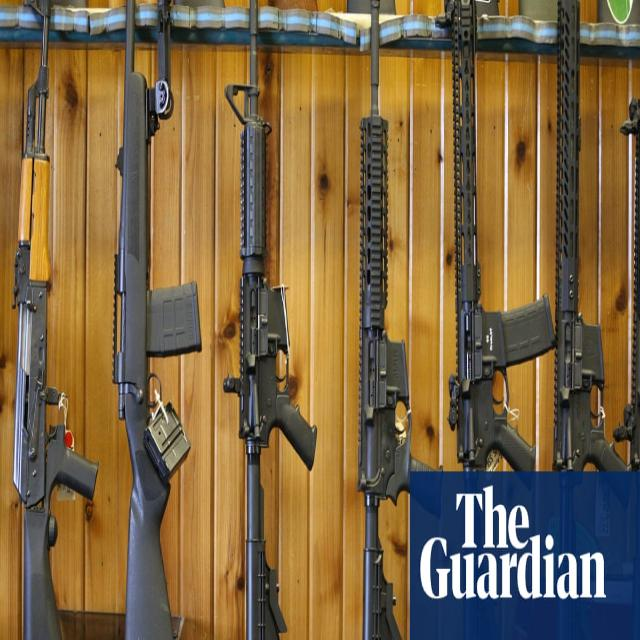Rifle: (223, 0, 310, 640), (12, 0, 99, 640), (115, 0, 202, 640), (445, 0, 557, 472), (554, 0, 628, 473), (358, 0, 412, 640)
